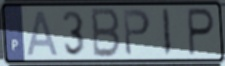3: (61, 10, 87, 58)
A: (26, 9, 61, 58)
B: (91, 7, 122, 60)
I: (161, 8, 173, 59)
P: (186, 6, 217, 58), (121, 8, 152, 58)
